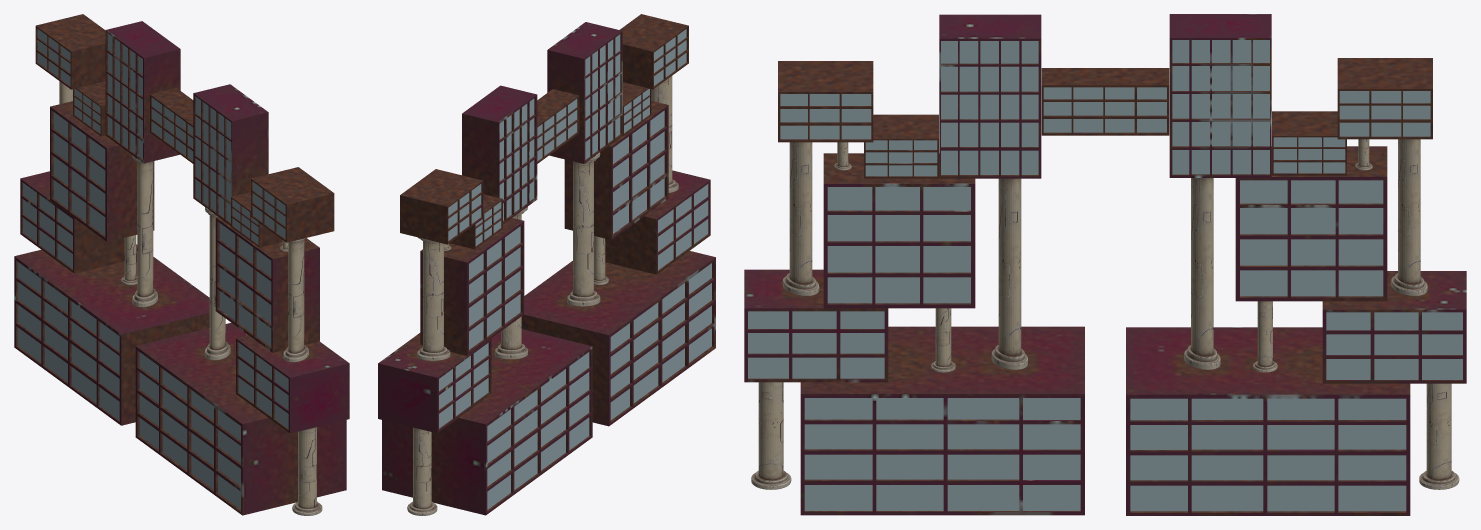
Rendered from modern_roman_building_1_fixed_0.fbx.
The picture shows the model from 3 angles, left to right: view 1: azimuth 30°, elevation 25°; view 2: azimuth 150°, elevation 25°; view 3: azimuth 270°, elevation 25°; orthographic projection. The views are drawn at different scales.
Visible parts, largest first — view 1: Cube.032, Cube.036, Cube.030, Cube.035, Cube.031, Cube.029, Cube.034, Cube.037, Cube.024, Cube.039, Cylinder.019, Cube.033 (+6 smaller); view 2: Cube.036, Cube.032, Cube.035, Cube.034, Cube.037, Cube.030, Cube.029, Cube.031, Cube.039, Cube.024, Cylinder.018, Cylinder.016 (+7 smaller); view 3: Cube.032, Cube.036, Cube.030, Cube.035, Cube.029, Cube.034, Cube.037, Cube.031, Cube.033, Cube.024, Cube.039, Cylinder.018 (+9 smaller).
Boxes of the visible parts, x1,y1,x2,y2 form: Cube.032: [135, 322, 346, 515]; Cube.036: [14, 244, 209, 425]; Cube.030: [215, 217, 319, 352]; Cube.035: [50, 101, 154, 241]; Cube.031: [236, 335, 349, 433]; Cube.029: [193, 84, 268, 225]; Cube.034: [105, 21, 180, 163]; Cube.037: [20, 171, 124, 273]; Cube.024: [251, 167, 334, 242]; Cube.039: [35, 14, 105, 89]; Cylinder.019: [132, 155, 157, 307]; Cube.033: [150, 88, 193, 163]; Cube.036: [382, 329, 592, 515]; Cube.032: [521, 251, 715, 426]; Cube.035: [420, 218, 524, 355]; Cube.034: [462, 85, 537, 224]; Cube.037: [378, 333, 491, 433]; Cube.030: [564, 101, 668, 239]; Cube.029: [547, 22, 622, 163]; Cube.031: [605, 170, 710, 274]; Cube.039: [400, 169, 483, 244]; Cube.024: [620, 14, 688, 89]; Cylinder.018: [567, 152, 600, 306]; Cylinder.016: [417, 237, 450, 360]; Cube.032: [800, 326, 1084, 515]; Cube.036: [1126, 327, 1410, 515]; Cube.030: [823, 153, 975, 308]; Cube.035: [1235, 146, 1387, 301]; Cube.029: [939, 14, 1041, 178]; Cube.034: [1169, 14, 1271, 177]; Cube.037: [1322, 271, 1466, 383]; Cube.031: [744, 269, 888, 382]; Cube.033: [1041, 68, 1169, 135]; Cube.024: [778, 61, 873, 142]; Cube.039: [1337, 58, 1432, 139]; Cylinder.018: [991, 178, 1027, 369].
Bounding box in the file's own units: 3410 × 10730 × 15278.
